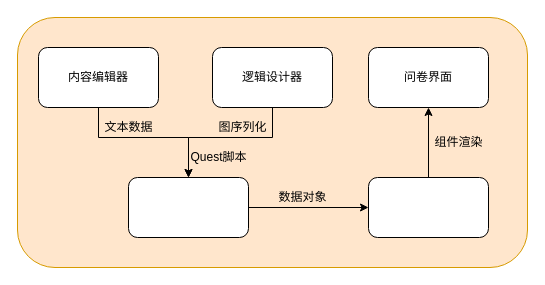
Image size: 545x285. Some labels were removed from this diagram. The box of each missing label's shape, as (x1, y1, x2, y2) in pixels:
Quest编译器: (128, 176, 248, 238)
渲染器: (368, 176, 488, 238)
